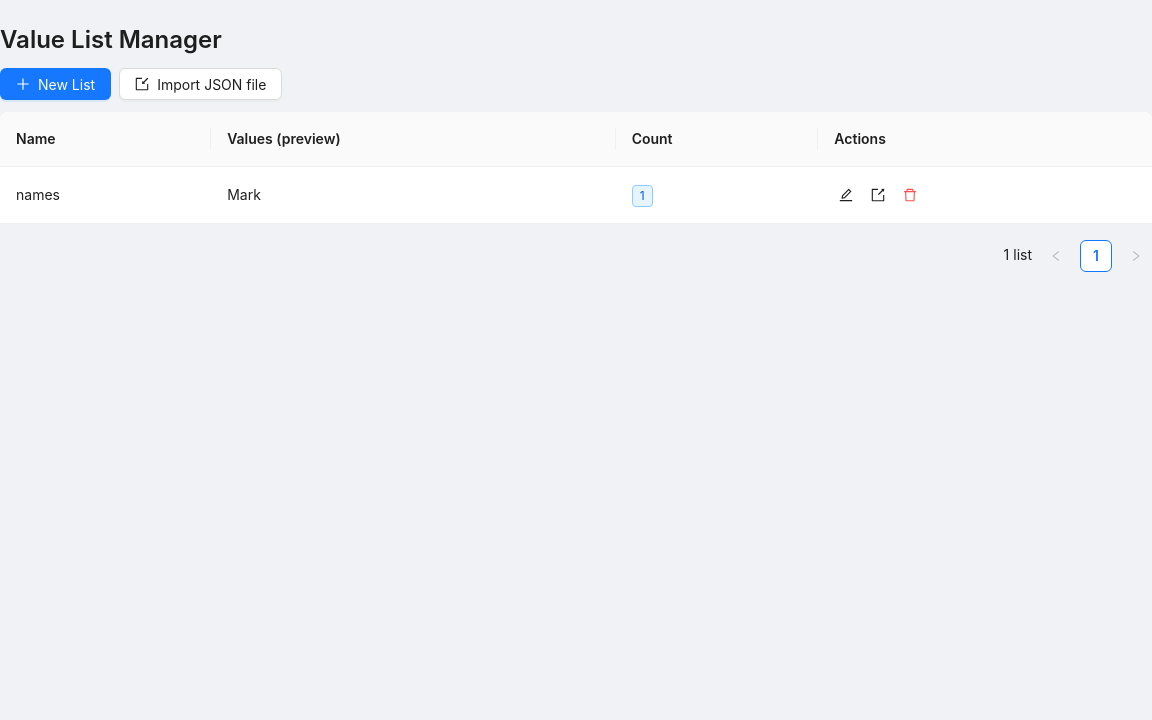
it: ValueListManagerPage › Delete warns with the referencing template names (payload and header references)
Click the button with test id "list-delete-names" at (910,195), box x1=898 y1=183 x2=922 y2=207
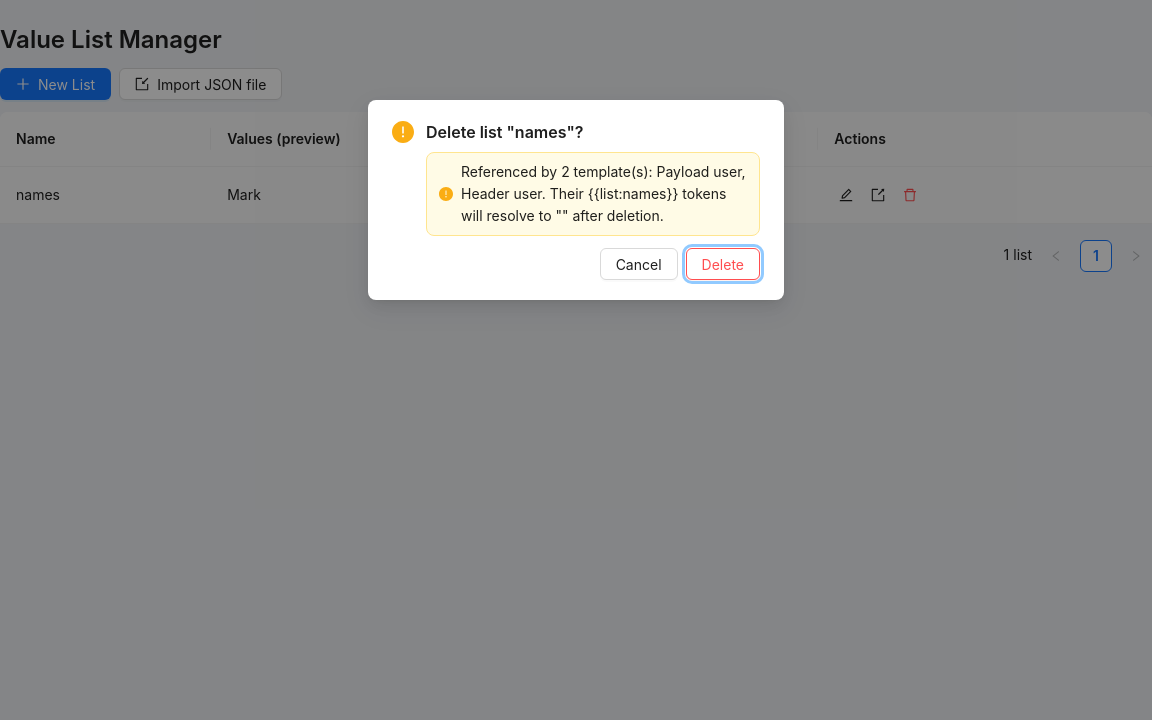
Result: the element with test id "delete-references-warning" shows "Payload user" at x1=461 y1=163 x2=746 y2=224
Result: the element with test id "delete-references-warning" shows "Header user" at x1=461 y1=163 x2=746 y2=224
